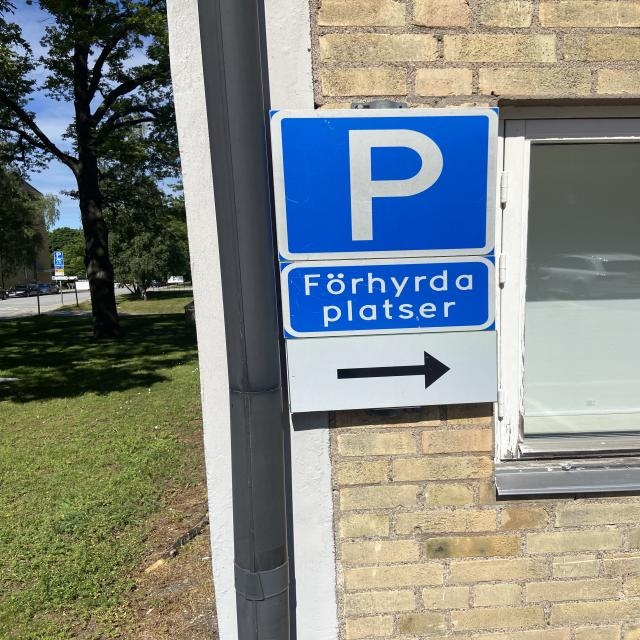P-skylt: (278, 114, 491, 256)
